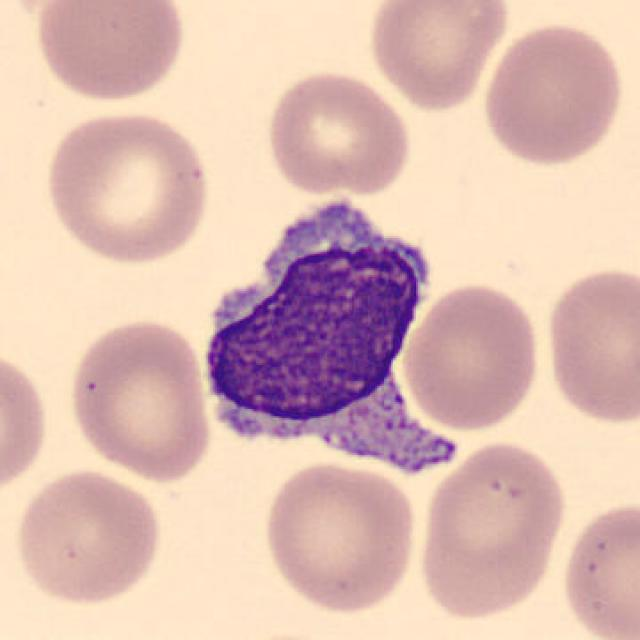Lymphocyte: (190, 183, 446, 483)
RBC: (412, 436, 570, 624), (41, 106, 215, 268), (258, 457, 420, 617), (64, 314, 215, 485), (398, 278, 544, 434), (478, 18, 628, 169), (9, 466, 163, 608), (262, 67, 414, 197), (28, 0, 188, 106), (363, 0, 512, 113), (540, 263, 638, 428), (556, 497, 640, 640), (0, 343, 53, 502)
